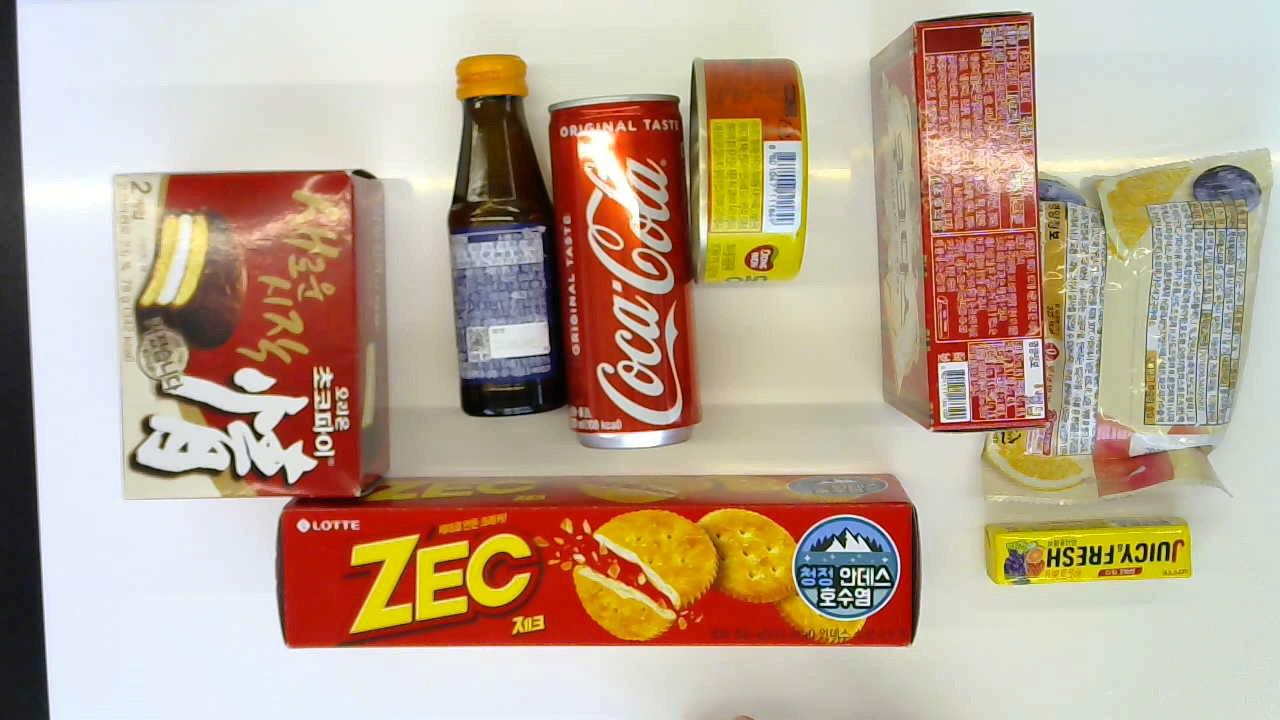chocopie: (112, 169, 387, 500)
coke: (547, 88, 699, 447)
couque_white: (869, 9, 1054, 435)
gumi_gumi: (968, 143, 1273, 501)
juicyfresh: (984, 513, 1193, 587)
tuna: (684, 56, 808, 283)
vita500: (442, 48, 574, 413)
zec: (277, 473, 927, 649)
